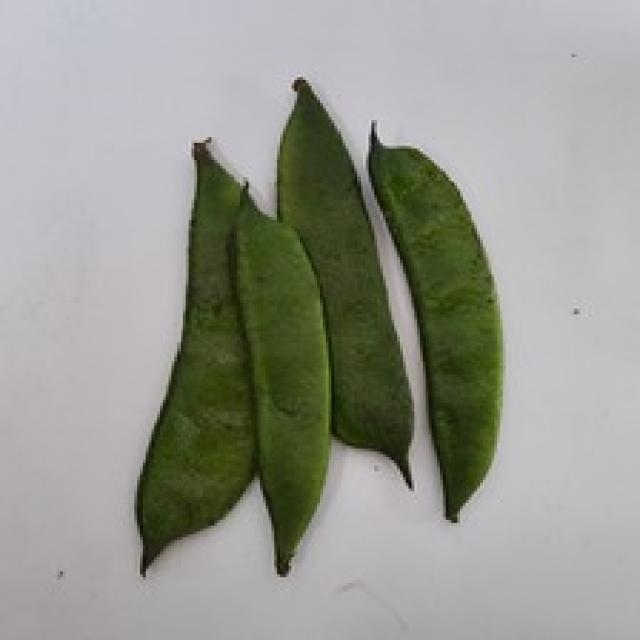Bean: (274, 74, 414, 489), (363, 117, 503, 520), (132, 135, 255, 574), (232, 177, 332, 574)
